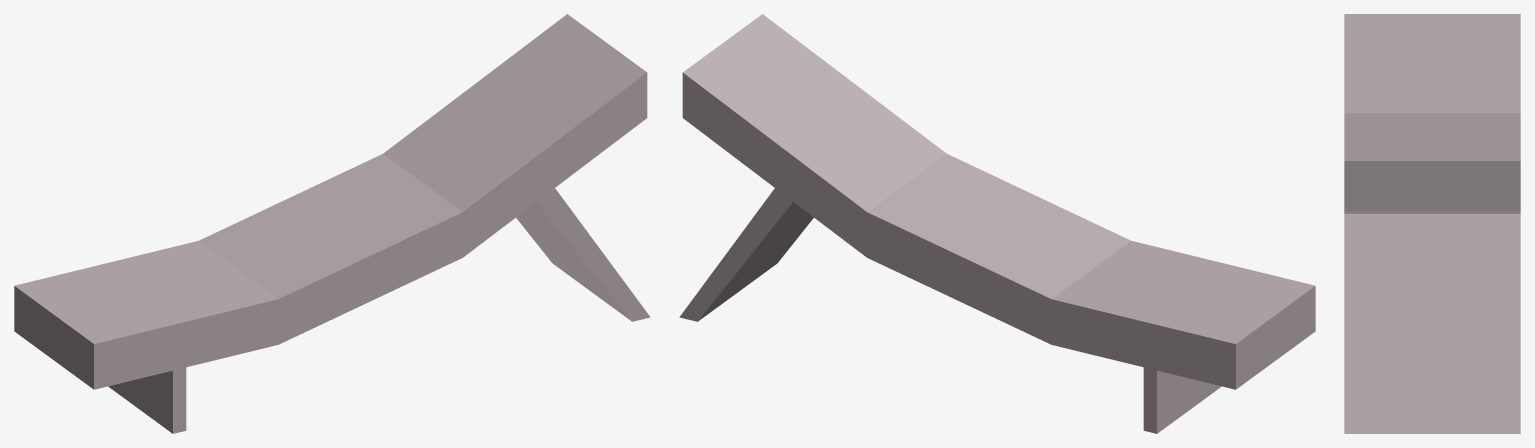
Rendered from obj_pool_chair_col.gltf.
3 renders of one model, left to right at view 1: azimuth 30°, elevation 25°; view 2: azimuth 150°, elevation 25°; view 3: azimuth 270°, elevation 25°, orthographic. The views are drawn at different scales.
Visible parts, largest first — view 1: obj_pool_chair_col; view 2: obj_pool_chair_col; view 3: obj_pool_chair_col.
Part boxes in pixels (bbox=[...]): obj_pool_chair_col: bbox=[14, 14, 650, 433]; obj_pool_chair_col: bbox=[679, 14, 1315, 433]; obj_pool_chair_col: bbox=[1344, 14, 1520, 433].
Size of the model in its own units: 2.01 by 0.8495 by 0.5.
Materials: 1 (1 with a texture image).
